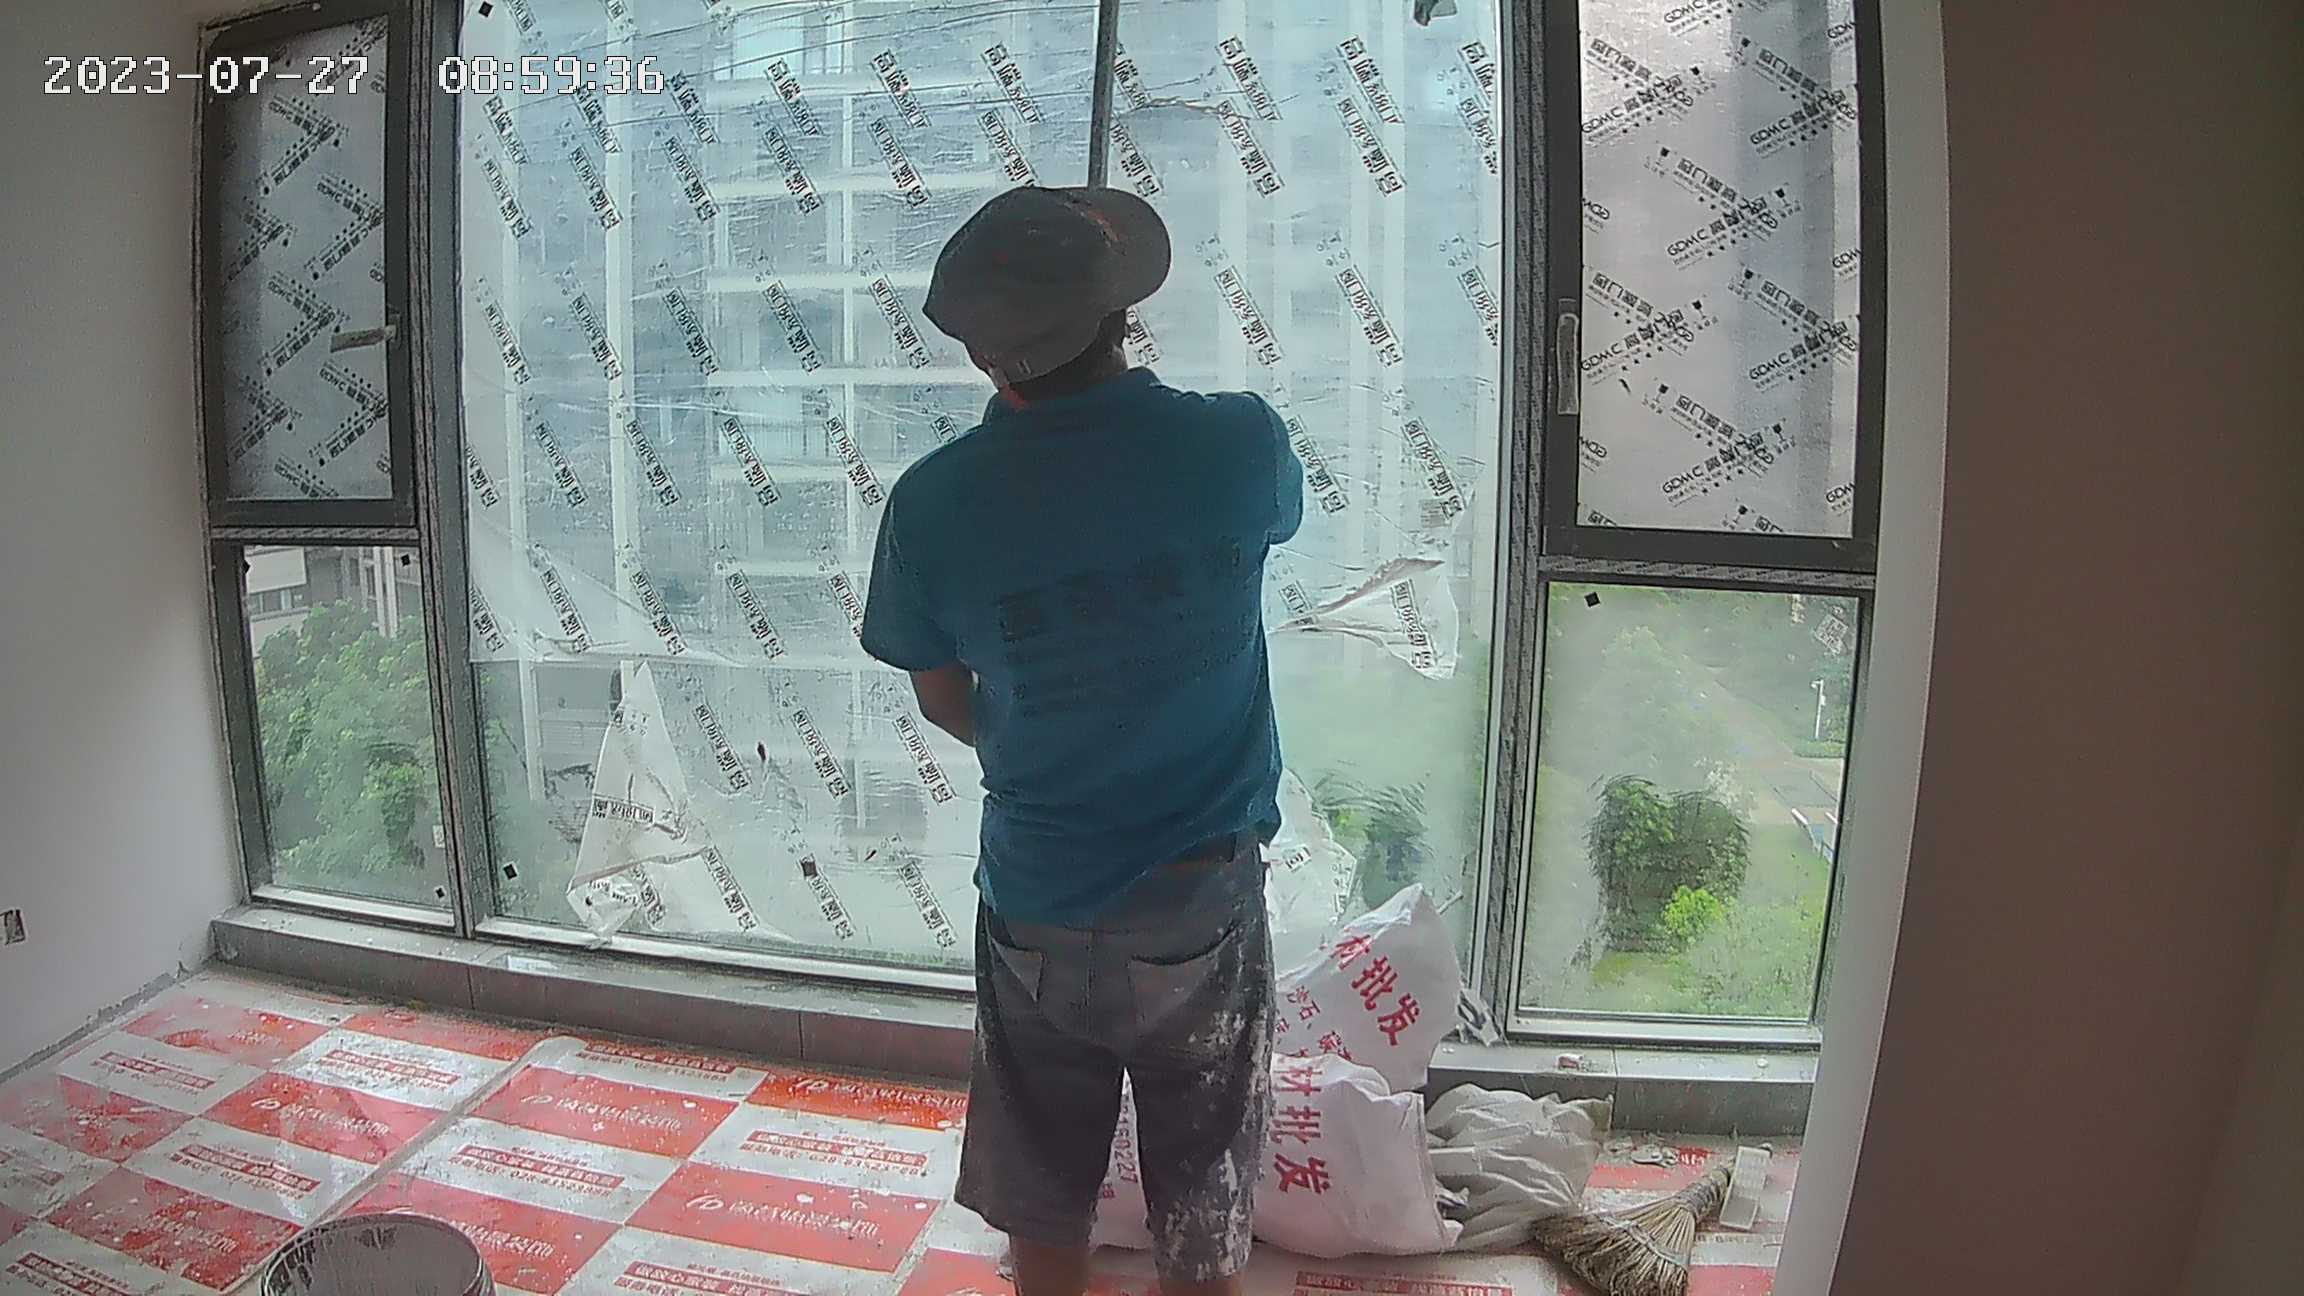people: (830, 176, 1329, 1296)
window: (195, 9, 1885, 1053)
